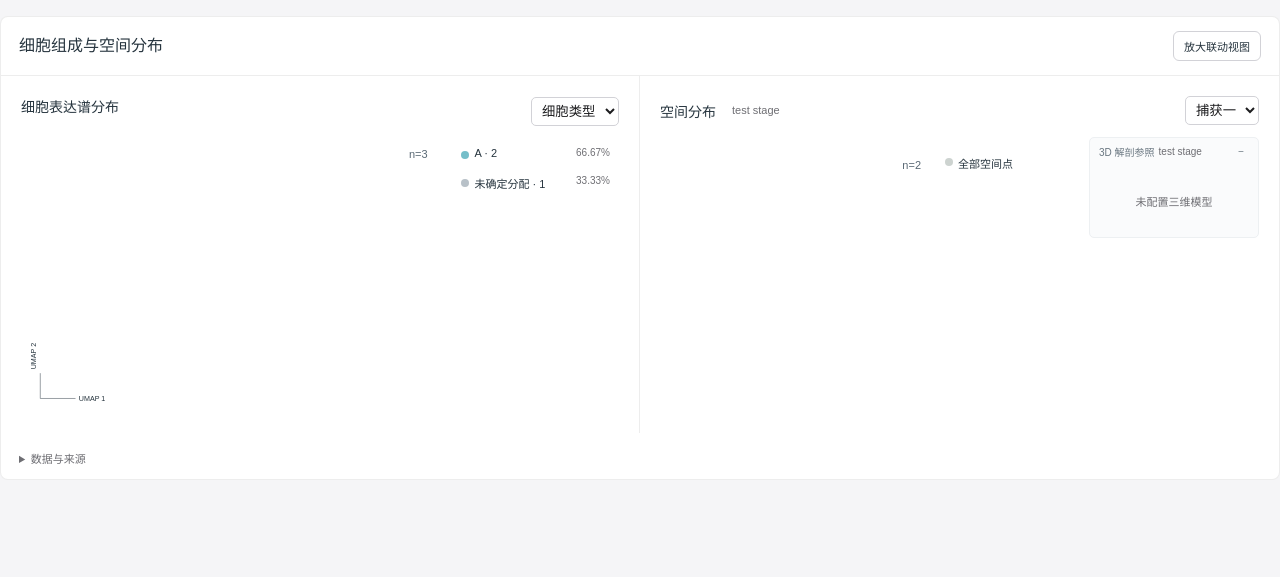
pin_ignores_hover_and_focus_until_explicit_click_or_Escape
Click the button "A · 2 66.67%": (535, 153) x1=454 y1=140 x2=617 y2=166
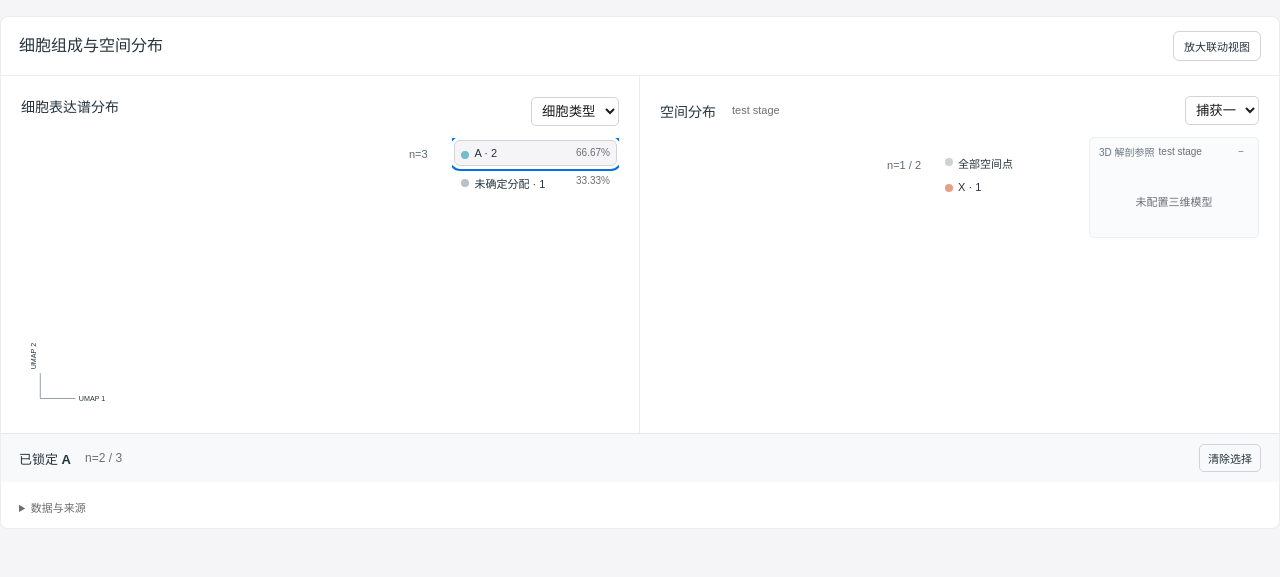
Expected: the element with test id "linked-selection" shows "已锁定 A", x1=19 y1=452 x2=71 y2=467
Expected: the text with test id "spatial-count" shows "1 / 2", x1=883 y1=157 x2=925 y2=174
Hover over the button "未确定分配 · 1 33.33%": (535, 183) x1=454 y1=168 x2=617 y2=198
Expected: the element with test id "linked-selection" shows "已锁定 A", x1=19 y1=452 x2=71 y2=467
Focus the button "未确定分配 · 1 33.33%": (535, 183) x1=454 y1=168 x2=617 y2=198
Expected: the element with test id "linked-selection" shows "已锁定 A", x1=19 y1=452 x2=71 y2=467
Click the button "未确定分配 · 1 33.33%": (535, 183) x1=454 y1=168 x2=617 y2=198
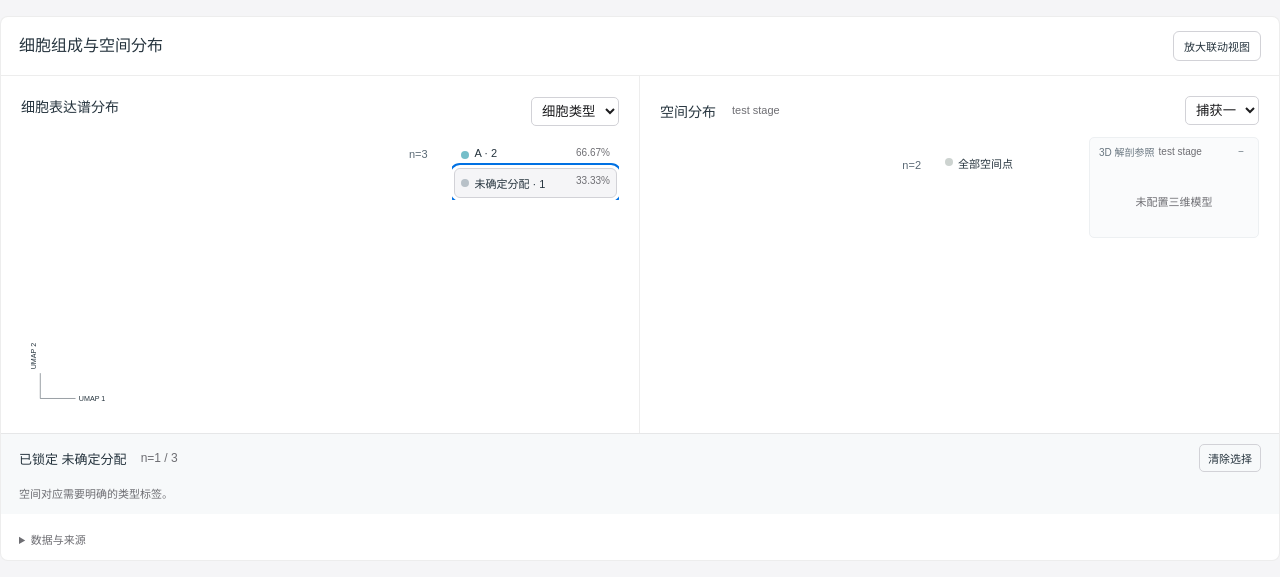
Expected: the text with test id "spatial-count" does not show "0 /", x1=898 y1=157 x2=925 y2=174
Expected: the element with test id "linked-selection" shows "已锁定 未确定分配", x1=19 y1=452 x2=127 y2=467
Expected: the text "空间对应需要明确的类型标签。" is shown, x1=19 y1=488 x2=173 y2=500
Move the pointer off the button "未确定分配 · 1 33.33%", box x1=454 y1=168 x2=617 y2=198
Expected: the element with test id "linked-selection" shows "已锁定 未确定分配", x1=19 y1=452 x2=127 y2=467
Press Escape in the element named "产品与空间参考联动"
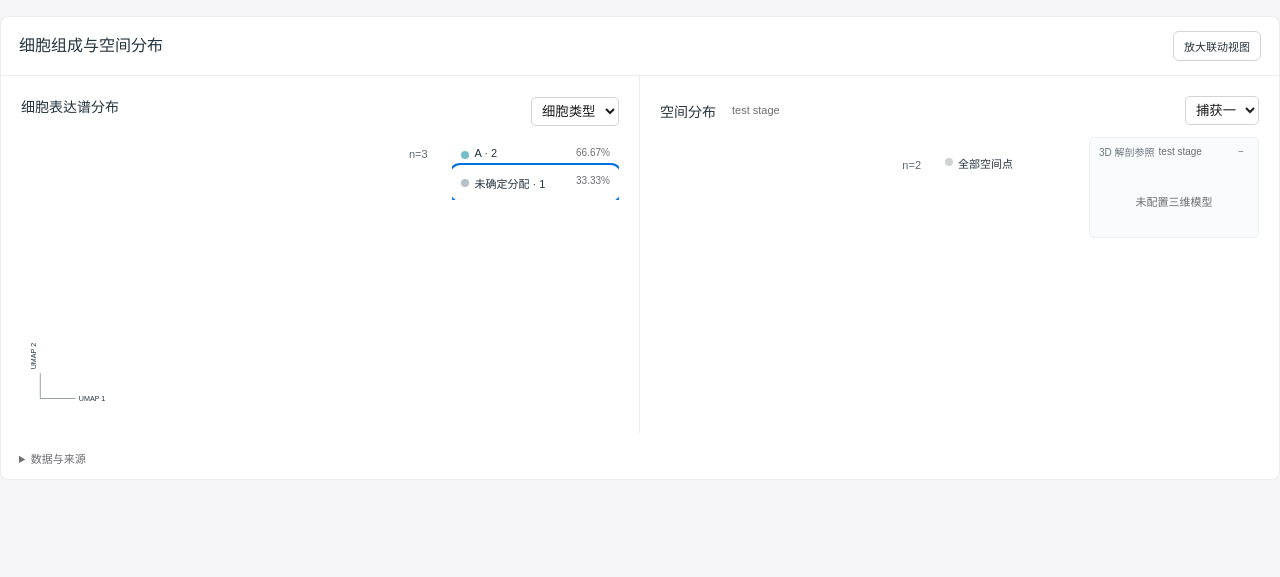
Expected: the element with test id "linked-selection" is gone
